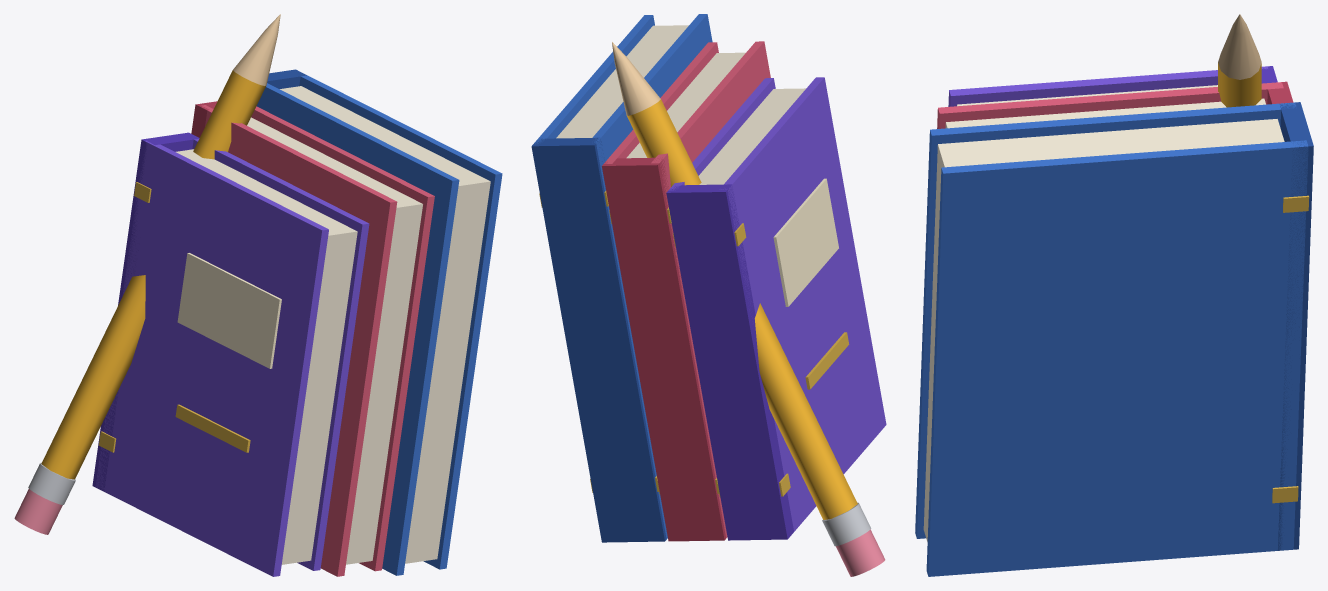
The model's file is graduation.glb.
3 renders of one model, left to right at view 1: azimuth 30°, elevation 25°; view 2: azimuth 150°, elevation 25°; view 3: azimuth 270°, elevation 25°, orthographic. The views are drawn at different scales.
Parts seen in each view (by area): view 1: grip_neg, grip_pos; view 2: grip_neg, grip_pos; view 3: grip_neg, grip_pos.
Boxes of the visible parts, left/top/right/bottom form: grip_neg: left=92, top=69, right=502, bottom=576; grip_pos: left=14, top=14, right=280, bottom=534; grip_neg: left=531, top=14, right=886, bottom=542; grip_pos: left=612, top=42, right=885, bottom=576; grip_neg: left=915, top=66, right=1313, bottom=576; grip_pos: left=1218, top=14, right=1261, bottom=107.
Bounding box in the file's own units: 0.2369 × 0.2939 × 0.1952.
